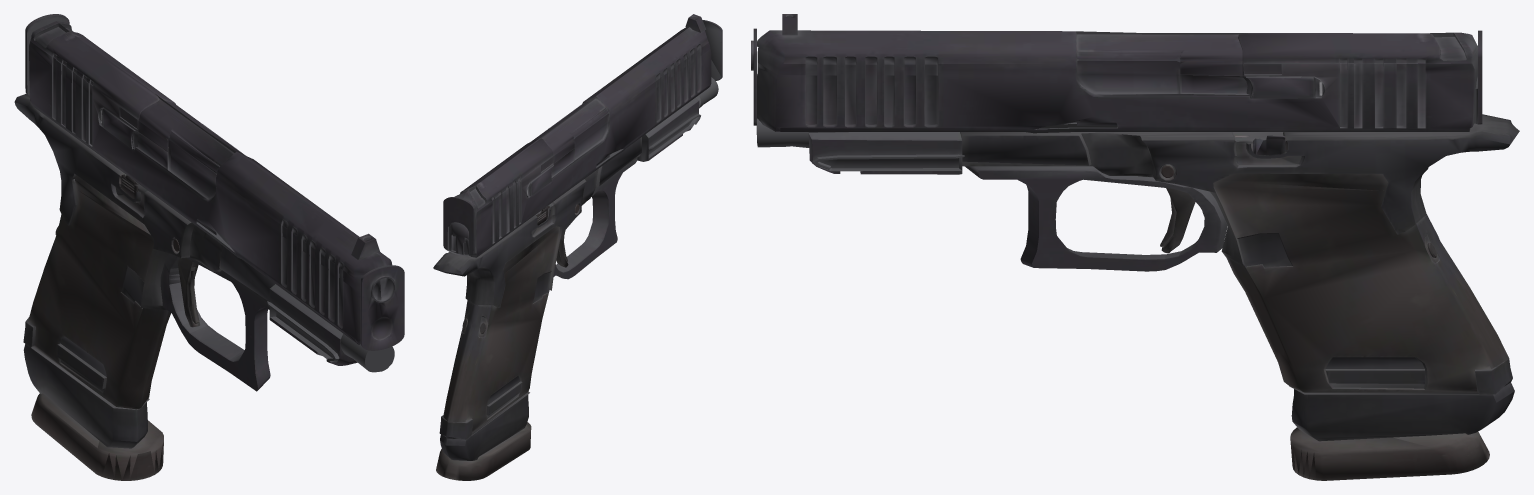
Rendered from h2_slim.glb.
3 renders of one model, left to right at view 1: azimuth 30°, elevation 25°; view 2: azimuth 150°, elevation 25°; view 3: azimuth 270°, elevation 25°, orthographic. The views are drawn at different scales.
Visible parts, largest first — view 1: body; view 2: body; view 3: body.
Boxes of the visible parts, <box> form: body: <box>14,14,404,480</box>; body: <box>433,14,722,480</box>; body: <box>751,14,1519,480</box>.
Bounding box in the file's own units: 0.0192 × 0.1135 × 0.178.
Materials: 1 (1 with a texture image).
